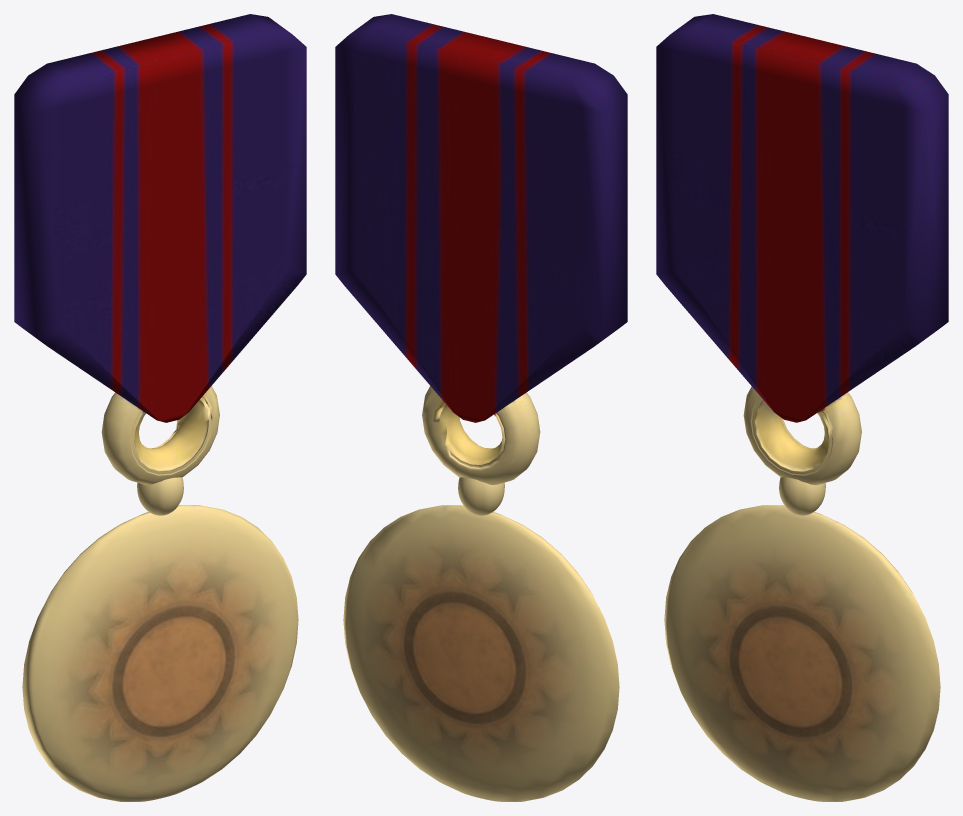
The model's file is outfit_medal.glb.
3 renders of one model, left to right at view 1: azimuth 30°, elevation 25°; view 2: azimuth 150°, elevation 25°; view 3: azimuth 330°, elevation 25°, orthographic.
Visible parts, largest first — view 1: outfit_medal; view 2: outfit_medal; view 3: outfit_medal.
Part boxes in pixels (x1=…): outfit_medal: x1=14, y1=14, x2=306, y2=801; outfit_medal: x1=335, y1=14, x2=627, y2=801; outfit_medal: x1=656, y1=14, x2=948, y2=801.
Size of the model in its own units: 0.1155 by 0.3 by 0.0204.
Materials: 1 (1 with a texture image).
